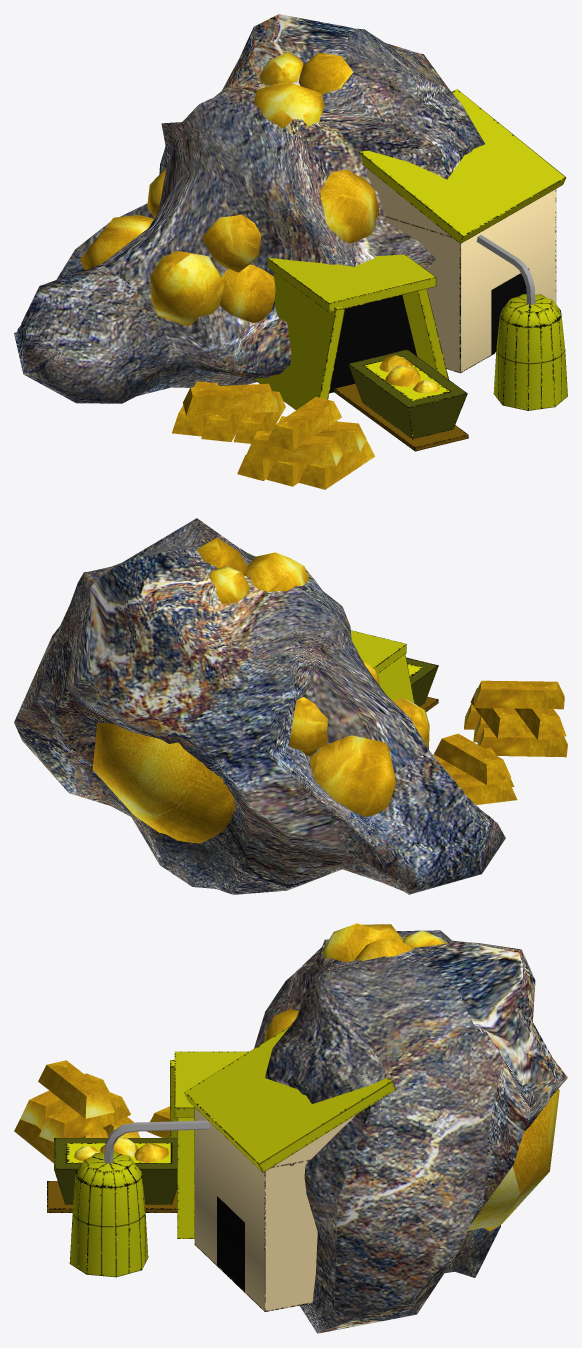
Rendered from gold_mine.fbx.
The picture shows the model from 3 angles, top to bottom: view 1: azimuth 30°, elevation 25°; view 2: azimuth 150°, elevation 25°; view 3: azimuth 270°, elevation 25°; orthographic projection. The views are drawn at different scales.
Parts seen in each view (by area): view 1: gold_mine_mesh; view 2: gold_mine_mesh; view 3: gold_mine_mesh.
Part boxes in pixels (x1,y1,x2,y2): gold_mine_mesh: [14, 14, 567, 489]; gold_mine_mesh: [14, 518, 567, 894]; gold_mine_mesh: [14, 923, 567, 1333].
Bounding box in the file's own units: 26.98 × 17.19 × 25.03.
